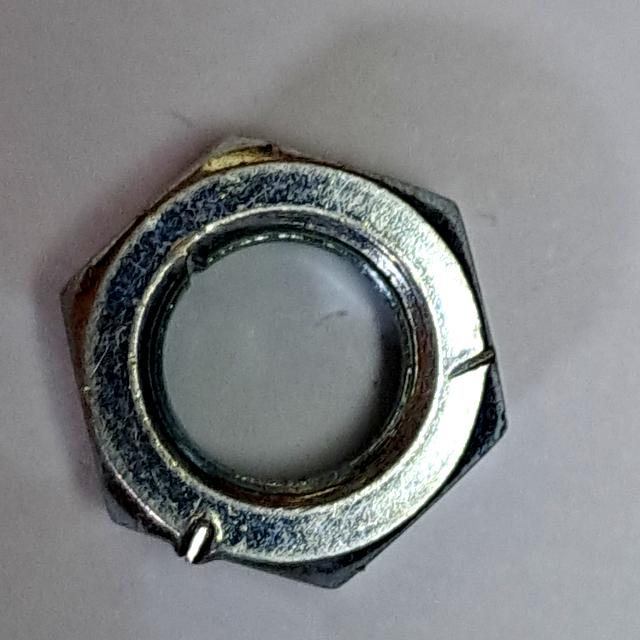Scratches: (45, 120, 524, 608)
